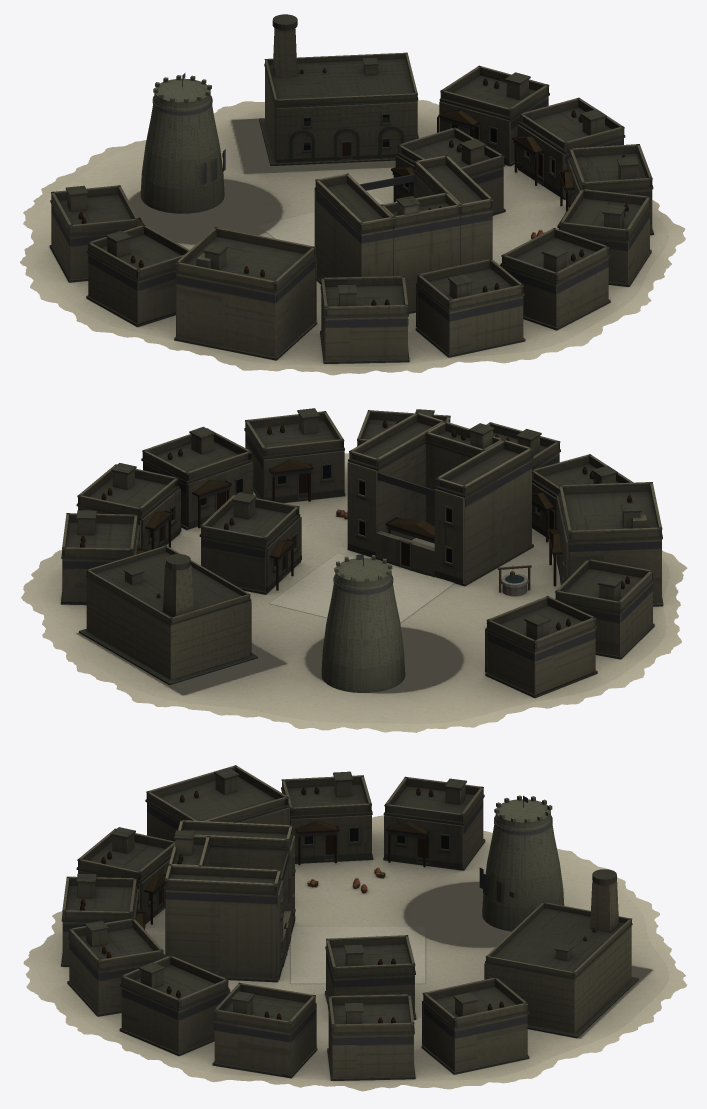
The model's file is classical-town-medium-b-eastafrica-8f8a3bf2.glb.
3 views of the same model, one above another, from view 1: azimuth 30°, elevation 25°; view 2: azimuth 150°, elevation 25°; view 3: azimuth 270°, elevation 25° (orthographic).
Parts seen in each view (by area): view 1: LOD0; view 2: LOD0; view 3: LOD0.
Part boxes in pixels (bbox=[...]): LOD0: bbox=[20, 14, 685, 375]; LOD0: bbox=[21, 408, 687, 732]; LOD0: bbox=[23, 765, 686, 1091].
Size of what is drawn, in the model's own units: 5.91 by 1.2 by 6.06.
Materials: 3 (3 with a texture image).
